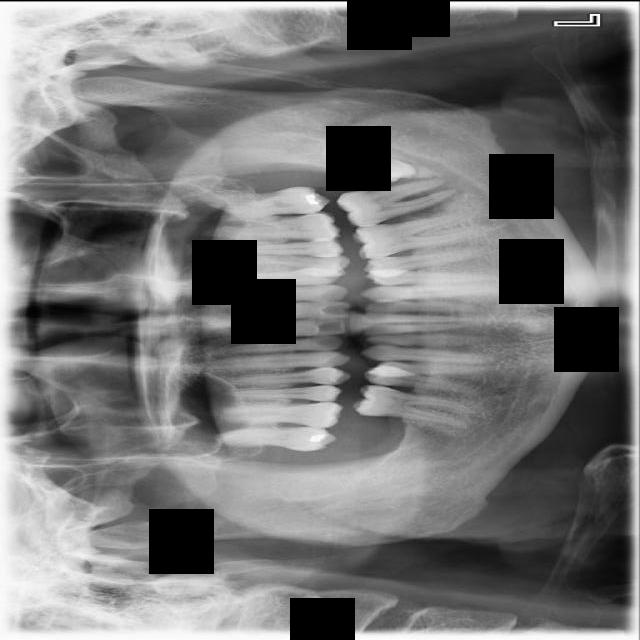52: (263, 185, 330, 214), (282, 424, 338, 452)
73: (558, 42, 562, 46)
BioHorizons Implant: (209, 183, 333, 224)
Biomet 3i Implant: (313, 123, 418, 204)
Blue Sky Bio Implant: (335, 174, 460, 231)
Caries: (213, 425, 336, 451)
